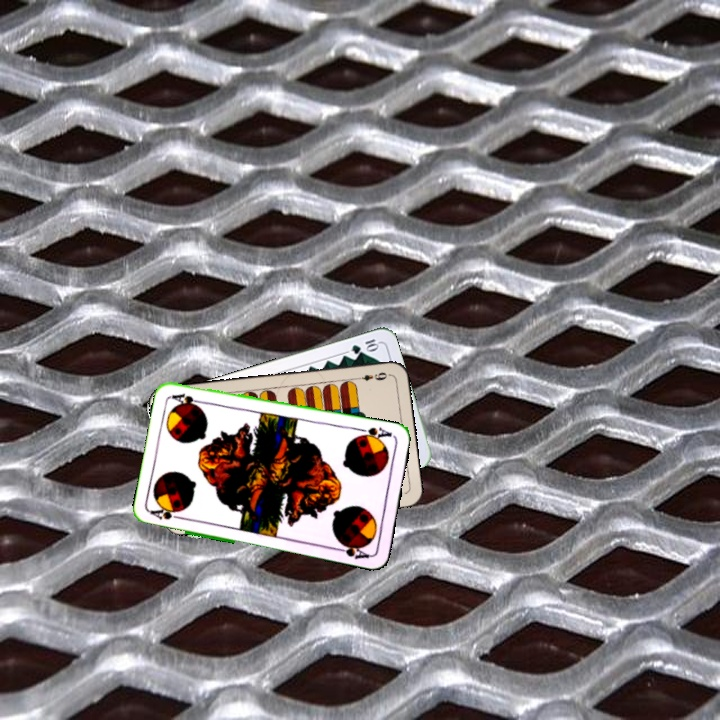E9: (351, 368, 392, 383)
G10: (347, 335, 382, 357)
SA: (354, 423, 395, 444), (147, 505, 187, 522)
